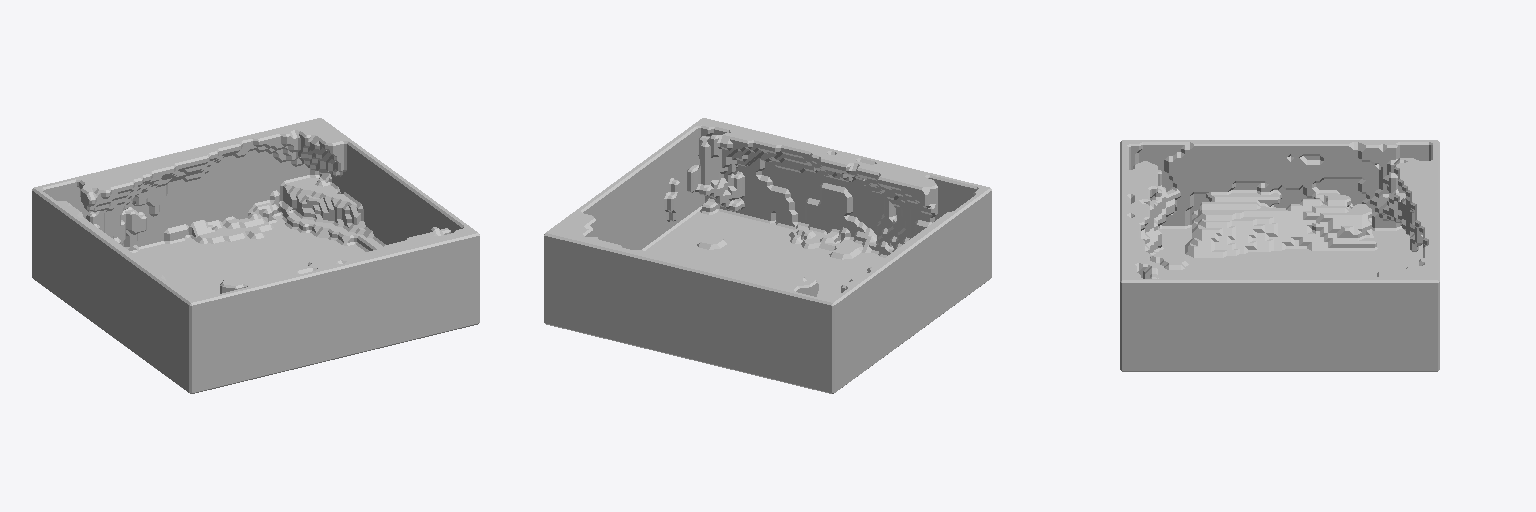
The model's file is Input_prediction_mesh.obj.
The picture shows the model from 3 angles: view 1: azimuth 30°, elevation 25°; view 2: azimuth 150°, elevation 25°; view 3: azimuth 270°, elevation 25°; orthographic projection.
Parts seen in each view (by area): view 1: mat0, mat1, mat3, mat2; view 2: mat0, mat3, mat1, mat2, mat4; view 3: mat0, mat1, mat2, mat3.
Boxes of the visible parts, x1=… form: mat0: x1=32, y1=118, x2=479, y2=393; mat1: x1=61, y1=126, x2=299, y2=317; mat3: x1=179, y1=185, x2=450, y2=299; mat2: x1=295, y1=124, x2=349, y2=176; mat0: x1=544, y1=118, x2=991, y2=393; mat3: x1=643, y1=130, x2=937, y2=329; mat1: x1=574, y1=212, x2=955, y2=316; mat2: x1=556, y1=178, x2=681, y2=236; mat4: x1=603, y1=277, x2=807, y2=332; mat0: x1=1120, y1=140, x2=1439, y2=371; mat1: x1=1182, y1=140, x2=1439, y2=265; mat2: x1=1185, y1=190, x2=1428, y2=316; mat3: x1=1120, y1=161, x2=1180, y2=278.
Size of the model in its own units: 6.4 by 1.92 by 6.08.